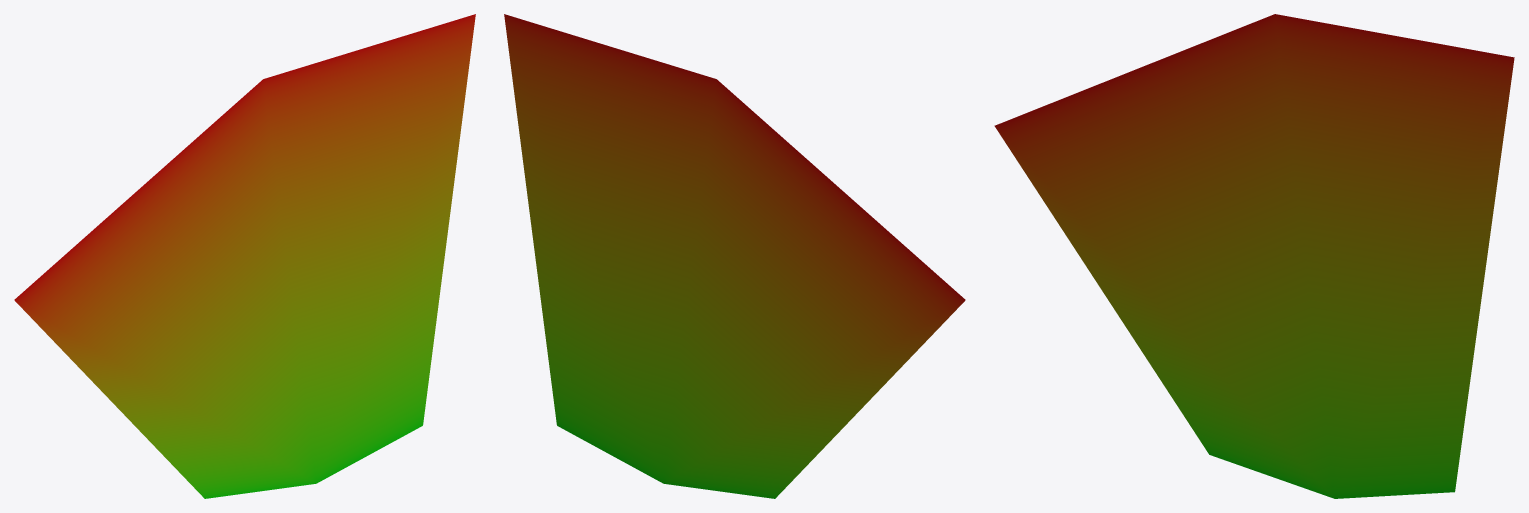
File: Alpine Bearberry_LOD5_Var14_xb0gdazqx.fbx
3 renders of one model, left to right at view 1: azimuth 30°, elevation 25°; view 2: azimuth 150°, elevation 25°; view 3: azimuth 330°, elevation 25°, orthographic. The views are drawn at different scales.
Parts seen in each view (by area): view 1: _x6li_Var14_LOD5; view 2: _x6li_Var14_LOD5; view 3: _x6li_Var14_LOD5.
Boxes of the visible parts, x1=… form: _x6li_Var14_LOD5: x1=14, y1=14, x2=475, y2=498; _x6li_Var14_LOD5: x1=504, y1=14, x2=965, y2=498; _x6li_Var14_LOD5: x1=994, y1=14, x2=1514, y2=498.
Size of the model in its own units: 10.63 by 9.48 by 4.14e-07.
